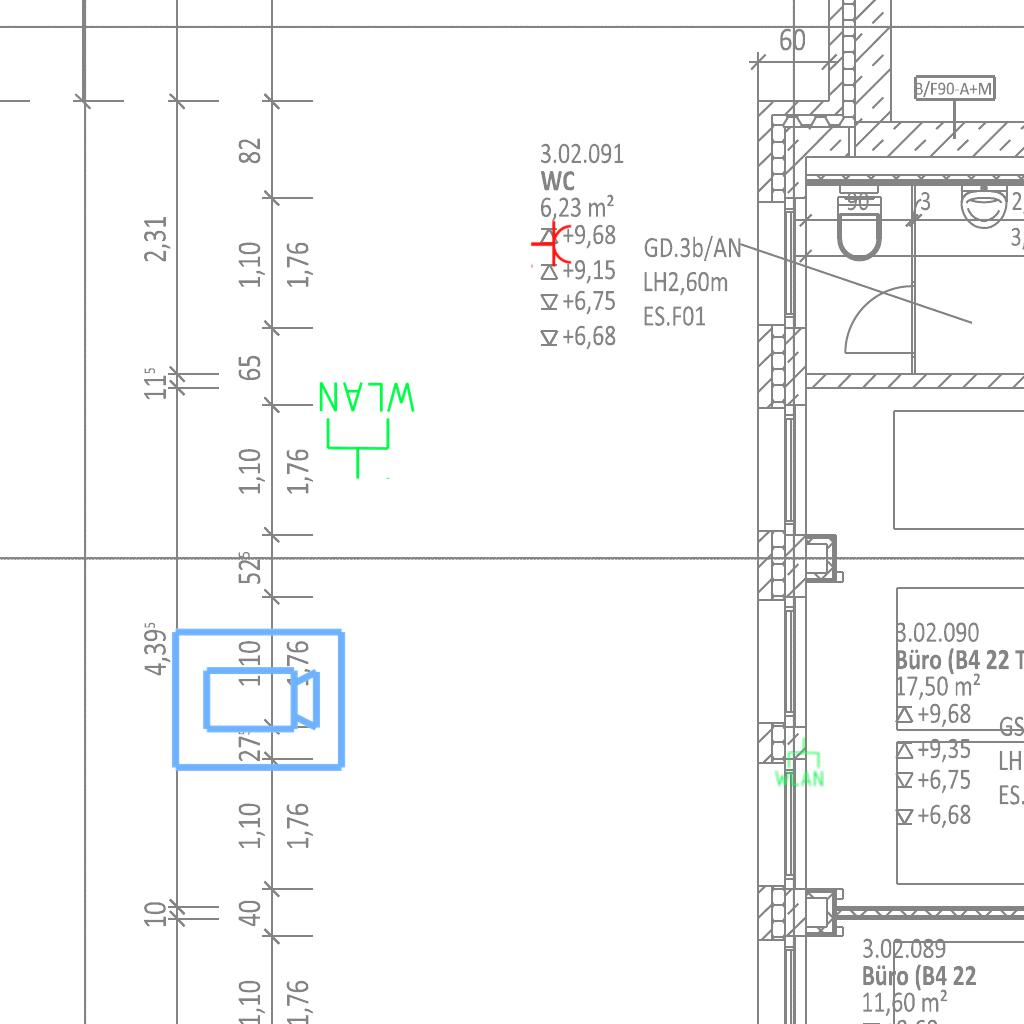KFO_Kamera_mit_Festobjektiv: (167, 624, 349, 778)
Schukosteckdose_einfach: (530, 220, 573, 270)
WLAN: (315, 378, 420, 482), (773, 736, 825, 788)
